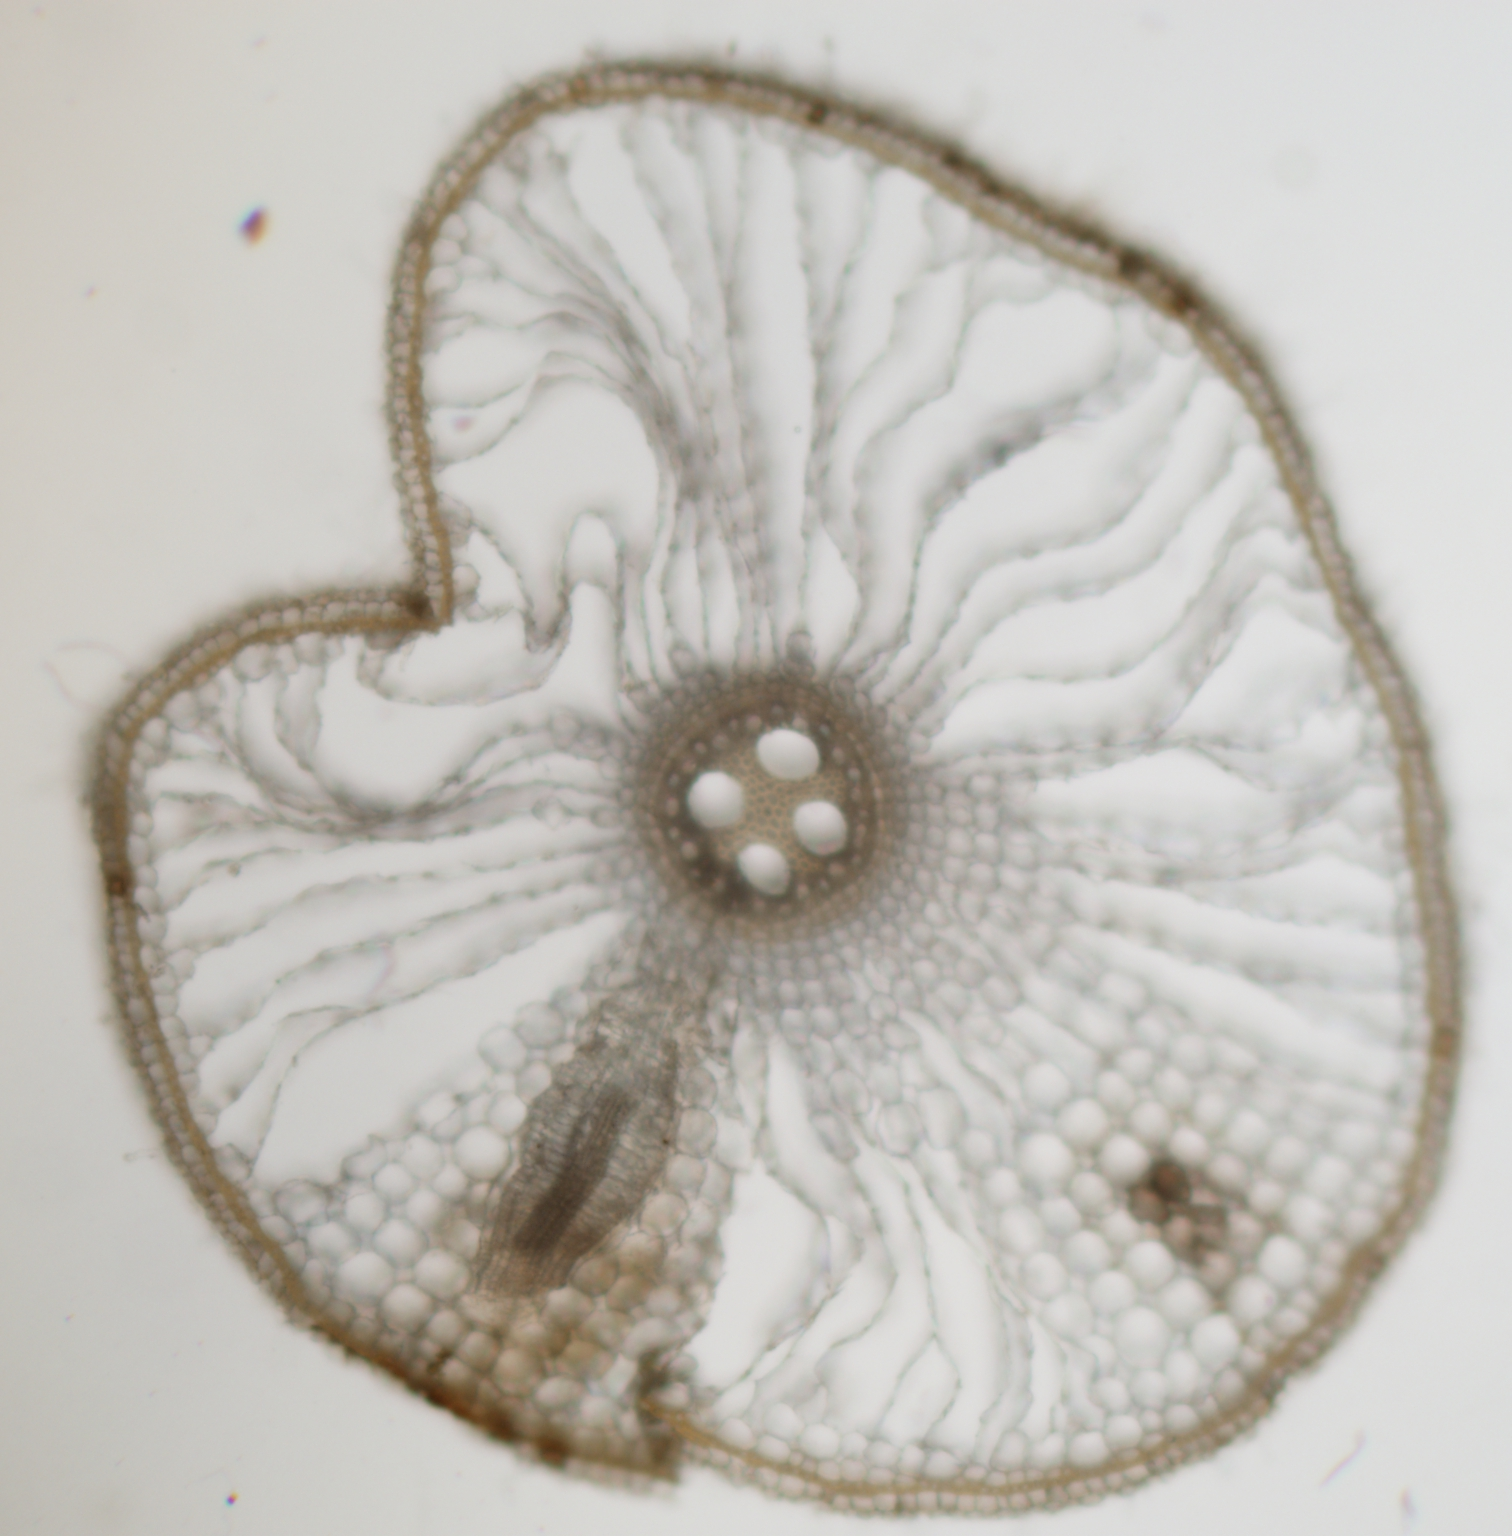lm: (687, 771, 745, 828), (756, 729, 820, 778), (793, 801, 847, 855), (738, 843, 791, 895)
